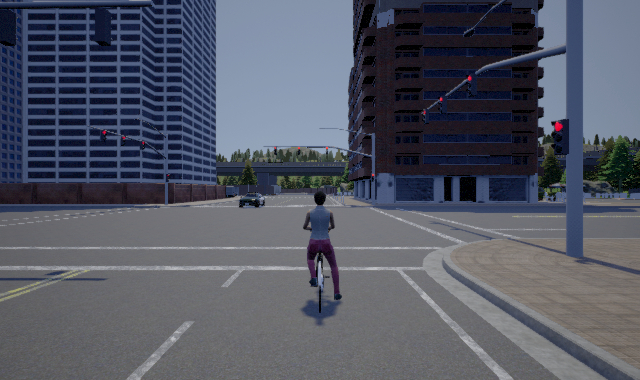bike: (301, 190, 342, 313)
traffic_light: (551, 119, 569, 155), (466, 73, 477, 97), (438, 96, 447, 114), (422, 109, 429, 125), (100, 130, 107, 142), (121, 136, 126, 146), (140, 141, 145, 150), (166, 174, 170, 182), (371, 174, 374, 182), (274, 147, 277, 155), (326, 147, 328, 155), (298, 147, 300, 155)
vehicle: (239, 192, 265, 208)
